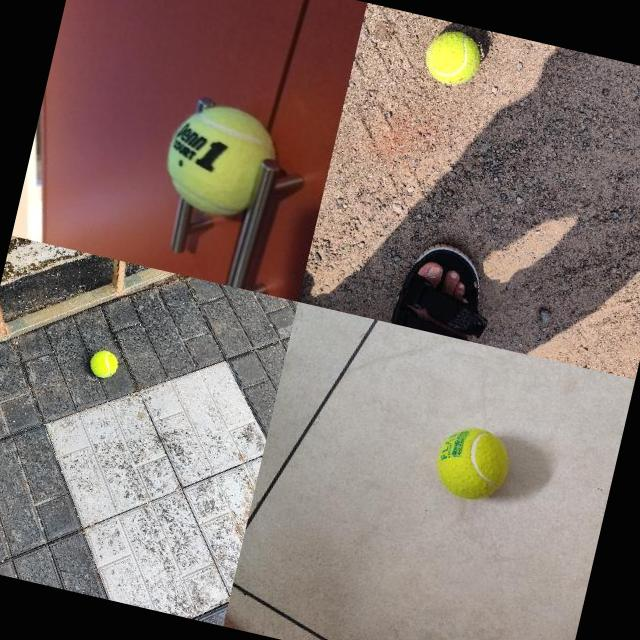tennis-ball: (156, 95, 268, 222), (430, 421, 514, 506), (420, 26, 484, 90), (86, 346, 120, 380)
